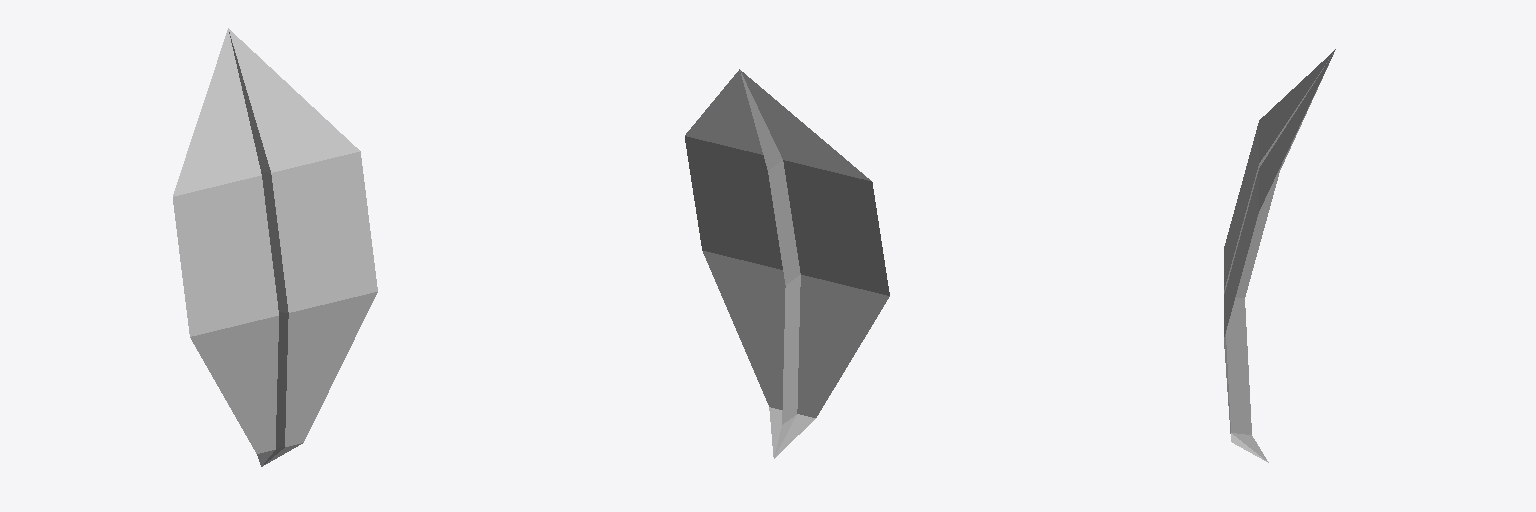
Rendered from leaf.obj.
3 renders of one model, left to right at view 1: azimuth 30°, elevation 25°; view 2: azimuth 150°, elevation 25°; view 3: azimuth 270°, elevation 25°, orthographic.
Visible parts, largest first — view 1: Plane; view 2: Plane; view 3: Plane.
Part boxes in pixels (x1,y1,x2,y2): Plane: (173, 28, 377, 466); Plane: (685, 69, 889, 458); Plane: (1224, 49, 1335, 462).
Bounding box in the file's own units: 1 × 2.11 × 0.5173.